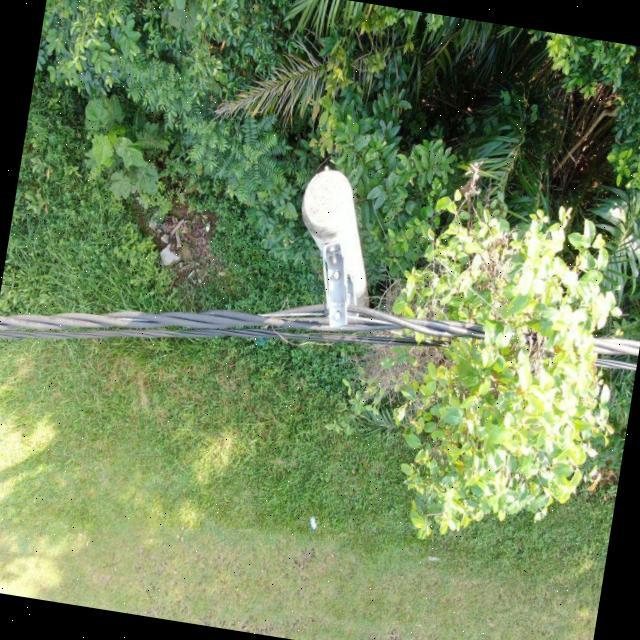critical vegetation: (341, 170, 640, 573)
